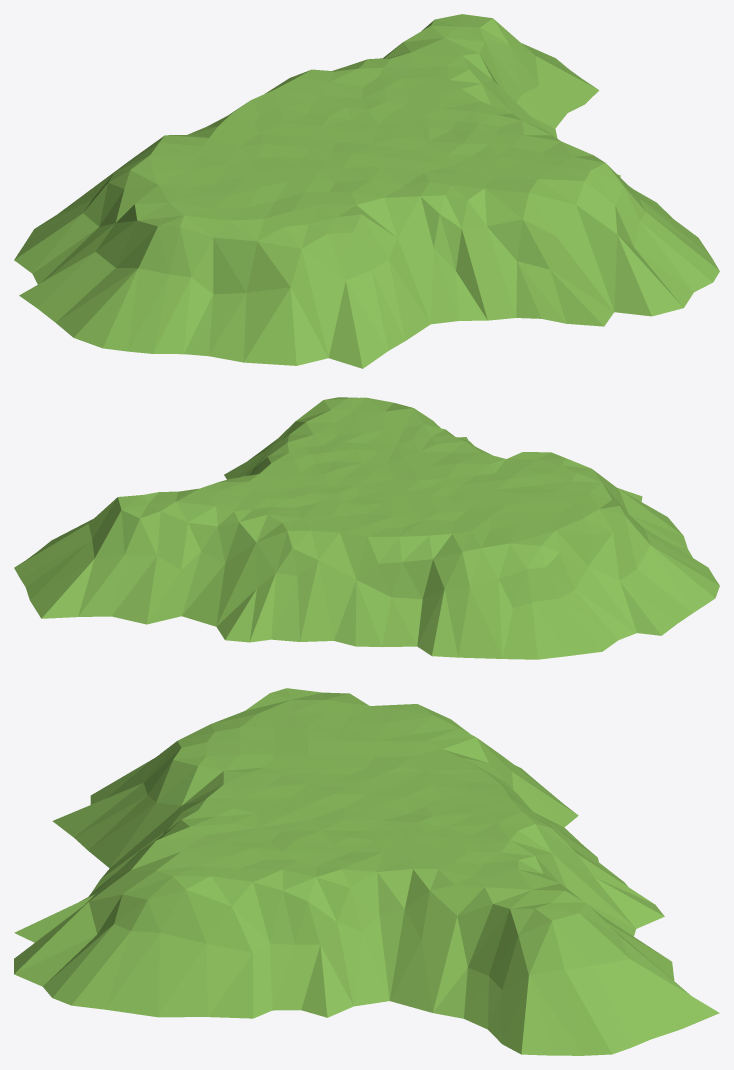
The model's file is MT_Island_M_a_01_LOD.fbx.
3 views of the same model, one above another, from view 1: azimuth 30°, elevation 25°; view 2: azimuth 150°, elevation 25°; view 3: azimuth 270°, elevation 25° (orthographic). The views are drawn at different scales.
Parts seen in each view (by area): view 1: MT_Island_M_a_01_LOD0; view 2: MT_Island_M_a_01_LOD0; view 3: MT_Island_M_a_01_LOD0.
Part boxes in pixels (x1,y1,x2,y2): MT_Island_M_a_01_LOD0: [14, 14, 719, 368]; MT_Island_M_a_01_LOD0: [14, 397, 719, 659]; MT_Island_M_a_01_LOD0: [14, 688, 719, 1055].
Size of what is drawn, in the model's own units: 7236 by 934 by 6548.
